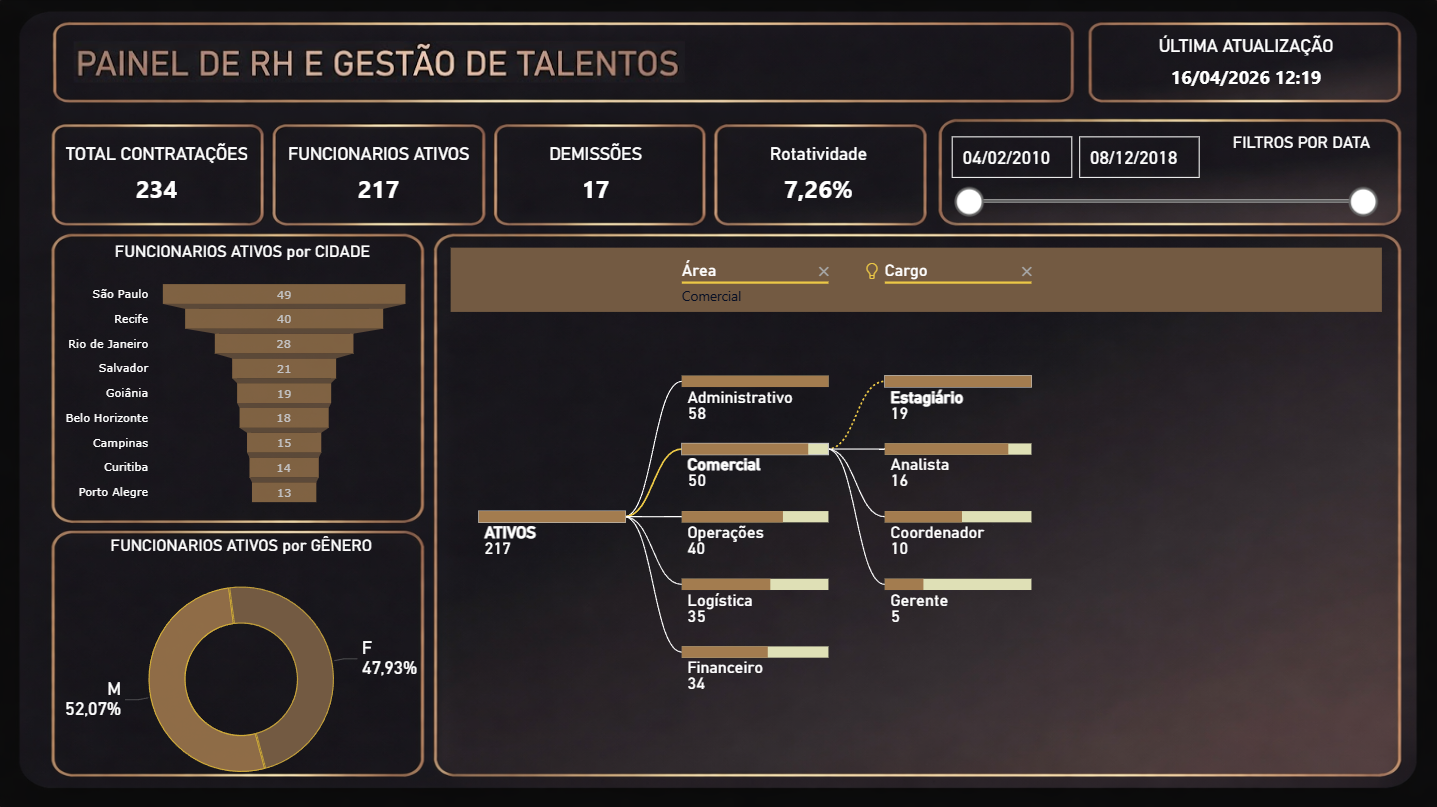

What the dashboard file says about the page in this screenshot:
{"tool":"powerbi","page":{"name":"Página 1","canvas":[1280,720],"ordinal":0},"visuals":[{"type":"cardVisual","fields":{"Data":["BaseFuncionarios.Contratações"]},"box":[7.8,83.6,267.5,144],"z":0},{"type":"cardVisual","fields":{"Data":["BaseFuncionarios.DEMISSÕES"]},"box":[396.8,83.6,267.5,144],"z":1000},{"type":"cardVisual","fields":{"Data":["BaseFuncionarios.FUNCIONARIOS ATIVOS"]},"box":[205.2,83.6,267.5,144],"z":3000},{"type":"image","box":[63.2,0,552.5,112.8],"z":4000},{"type":"cardVisual","fields":{"Data":["BaseFuncionarios.ÚLTIMA ATUALIZAÇÃO"]},"box":[935.7,0,344.3,112.8],"z":5000},{"type":"slicer","title":"FILTROS DE DATA","fields":{"Values":["BaseFuncionarios.Data de Contratacao"]},"box":[833.5,112.6,399,114.4],"z":6000},{"type":"textbox","box":[1090.6,112.6,141.9,31.9],"z":7000},{"type":"cardVisual","fields":{"Data":["BaseFuncionarios.Rotatividade"]},"box":[607.4,80.7,243,150.7],"z":8000},{"type":"stackedverticalfunnelB41D28FF99E2A12556D4C6B1065332F9","title":"FUNCIONARIOS ATIVOS por CIDADE","fields":{"col_1":["BaseFuncionarios.FUNCIONARIOS ATIVOS"],"col_0":["BaseFuncionarios.Cidade"]},"box":[46.1,216.4,343.2,251.8],"z":9000},{"type":"donutChart","title":"FUNCIONARIOS ATIVOS por GÊNERO","fields":{"Y":["BaseFuncionarios.FUNCIONARIOS ATIVOS"],"Category":["BaseFuncionarios.Genero"]},"box":[44.8,477.1,342.7,243.1],"z":9001},{"type":"decompositionTreeVisual","fields":{"Analyze":["BaseFuncionarios.FUNCIONARIOS ATIVOS"],"ExplainBy":["BaseFuncionarios.Área","BaseFuncionarios.Cargo"]},"box":[397.4,216.2,835.7,465.2],"z":9002}]}

Visuals, with their boxes in screenshot pixels (x1, y1, x2, y2), scaled from the page's 1280x720 canvas onto the 1437x807 screenshot:
cardVisual - BaseFuncionarios.Contratações: l=9, t=94, r=309, b=255
cardVisual - BaseFuncionarios.DEMISSÕES: l=445, t=94, r=746, b=255
cardVisual - BaseFuncionarios.FUNCIONARIOS ATIVOS: l=230, t=94, r=531, b=255
image: l=71, t=0, r=691, b=126
cardVisual - BaseFuncionarios.ÚLTIMA ATUALIZAÇÃO: l=1050, t=0, r=1436, b=126
"FILTROS DE DATA" slicer: l=936, t=126, r=1384, b=254
textbox: l=1224, t=126, r=1384, b=162
cardVisual - BaseFuncionarios.Rotatividade: l=682, t=90, r=955, b=259
"FUNCIONARIOS ATIVOS por CIDADE" stackedverticalfunnelB41D28FF99E2A12556D4C6B1065332F9: l=52, t=243, r=437, b=525
"FUNCIONARIOS ATIVOS por GÊNERO" donutChart: l=50, t=535, r=435, b=806
decompositionTreeVisual - BaseFuncionarios.FUNCIONARIOS ATIVOS x BaseFuncionarios.Área: l=446, t=242, r=1384, b=764
